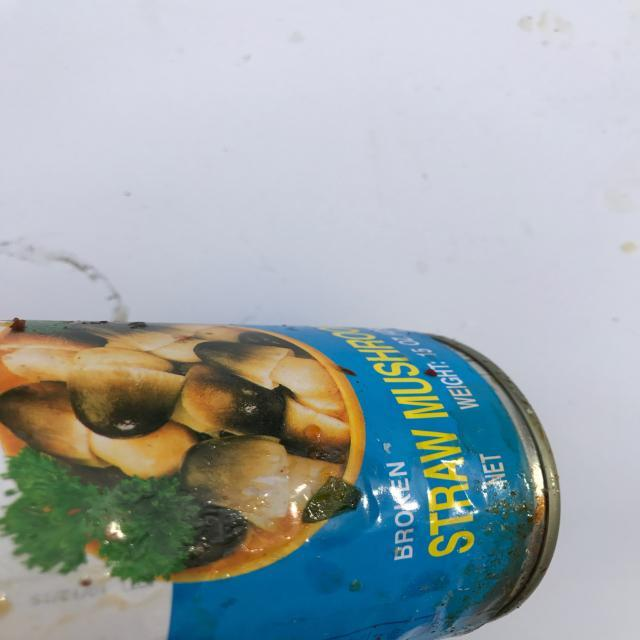metal: (2, 316, 562, 640)
